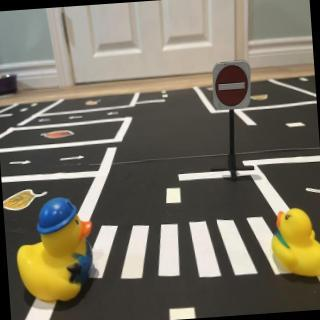duck_regular: (269, 206, 320, 282)
duck_specialty: (13, 196, 98, 307)
road_crosswalk: (88, 208, 299, 289)
road_oneway: (59, 151, 87, 165), (8, 158, 33, 170), (68, 113, 85, 121), (39, 117, 53, 125), (106, 110, 121, 117)
sign_noentry: (211, 61, 255, 112)
